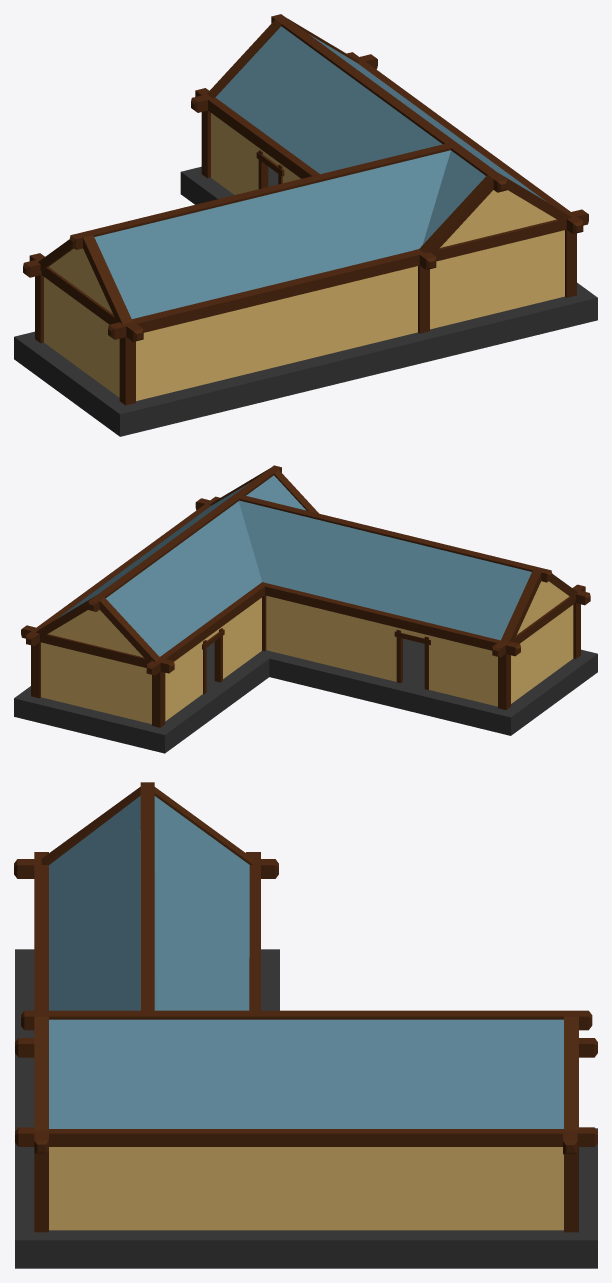
Rendered from LOD_City_SmallHouse02_LOD1.fbx.
3 views of the same model, one above another, from view 1: azimuth 30°, elevation 25°; view 2: azimuth 150°, elevation 25°; view 3: azimuth 270°, elevation 25° (orthographic). The views are drawn at different scales.
Visible parts, largest first — view 1: MBS_City_SmallHouse02_LOD1; view 2: MBS_City_SmallHouse02_LOD1; view 3: MBS_City_SmallHouse02_LOD1.
Part boxes in pixels (x1=…): MBS_City_SmallHouse02_LOD1: x1=14, y1=14, x2=597, y2=436; MBS_City_SmallHouse02_LOD1: x1=14, y1=465, x2=597, y2=753; MBS_City_SmallHouse02_LOD1: x1=14, y1=782, x2=597, y2=1268.
Size of the model in its own units: 2604 by 828 by 2204.
